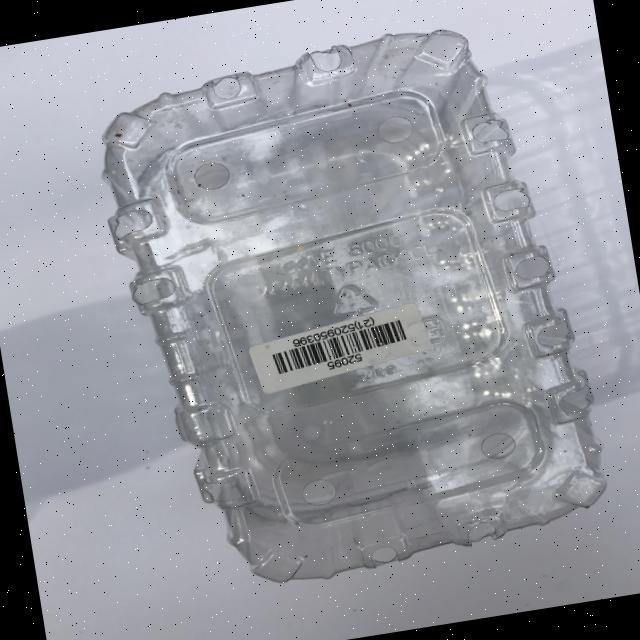plastic: (85, 10, 618, 605)
